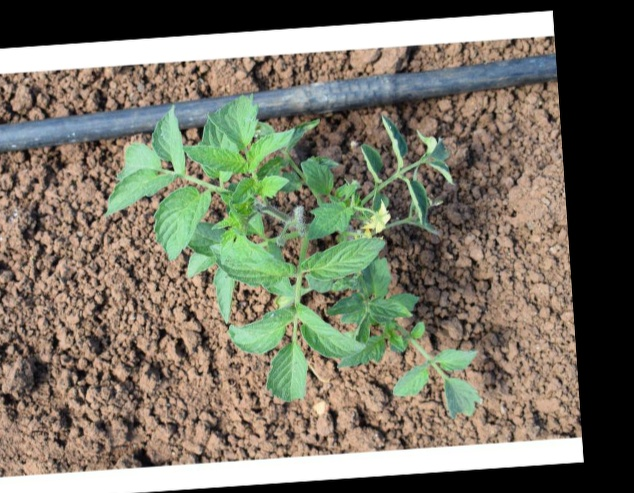tomato: (110, 94, 471, 429)
